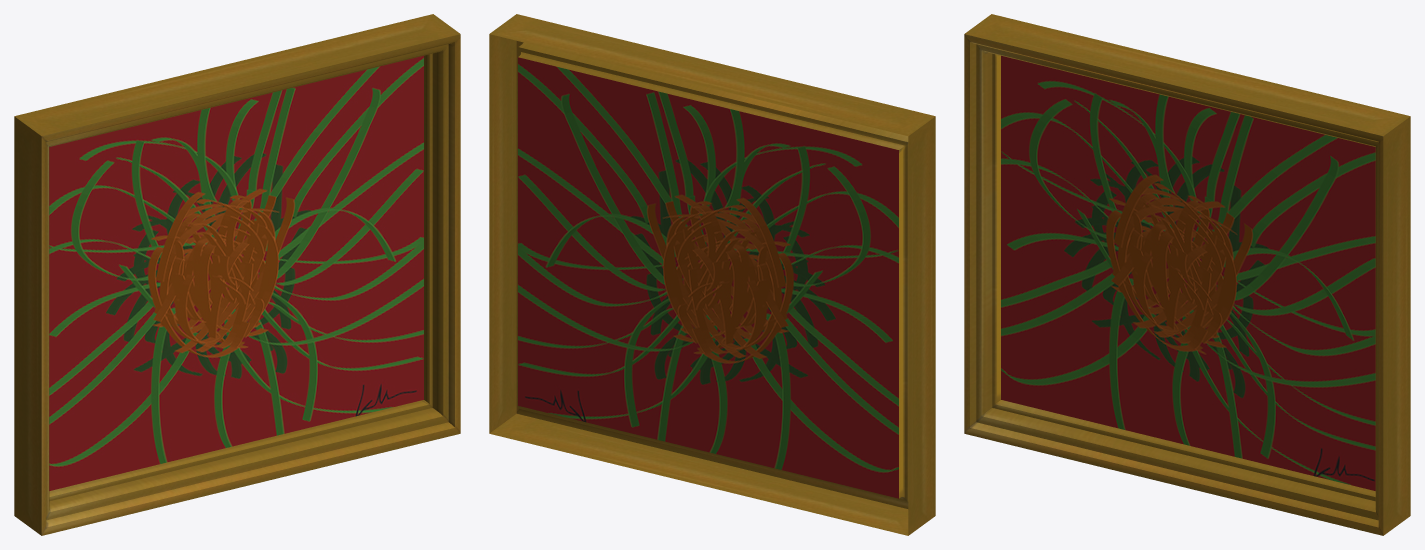
Rendered from RoomArt6K.FBX.
3 views of the same model, side by side, from view 1: azimuth 30°, elevation 25°; view 2: azimuth 150°, elevation 25°; view 3: azimuth 330°, elevation 25° (orthographic).
Parts seen in each view (by area): view 1: Box001; view 2: Box001; view 3: Box001.
Boxes of the visible parts, x1,y1,x2,y2 form: Box001: (14, 14, 460, 535); Box001: (489, 14, 935, 535); Box001: (964, 14, 1410, 535).
Size of the model in its own units: 102 by 92.75 by 11.53.
